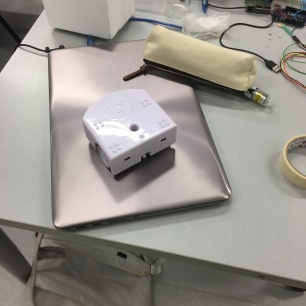thymio: (77, 84, 181, 180)
